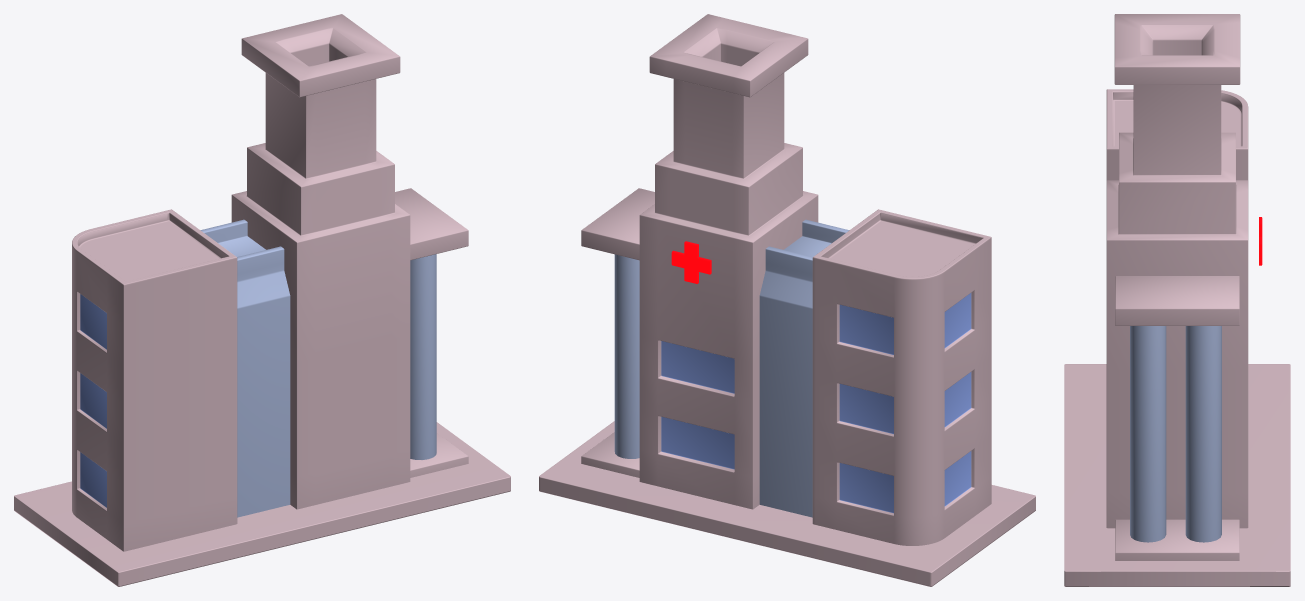
File: Hospital3.fbx
3 renders of one model, left to right at view 1: azimuth 30°, elevation 25°; view 2: azimuth 150°, elevation 25°; view 3: azimuth 270°, elevation 25°, orthographic. The views are drawn at different scales.
Parts seen in each view (by area): view 1: Cube.002, Cube.004; view 2: Cube.002, Cube.004; view 3: Cube.002, Cube.004.
Boxes of the visible parts, x1=… form: Cube.002: x1=72, y1=14, x2=468, y2=551; Cube.004: x1=14, y1=422, x2=510, y2=586; Cube.002: x1=581, y1=14, x2=991, y2=545; Cube.004: x1=539, y1=421, x2=1035, y2=586; Cube.002: x1=1106, y1=14, x2=1262, y2=560; Cube.004: x1=1064, y1=364, x2=1290, y2=586.
Bounding box in the file's own units: 2698 × 2883 × 1248.
